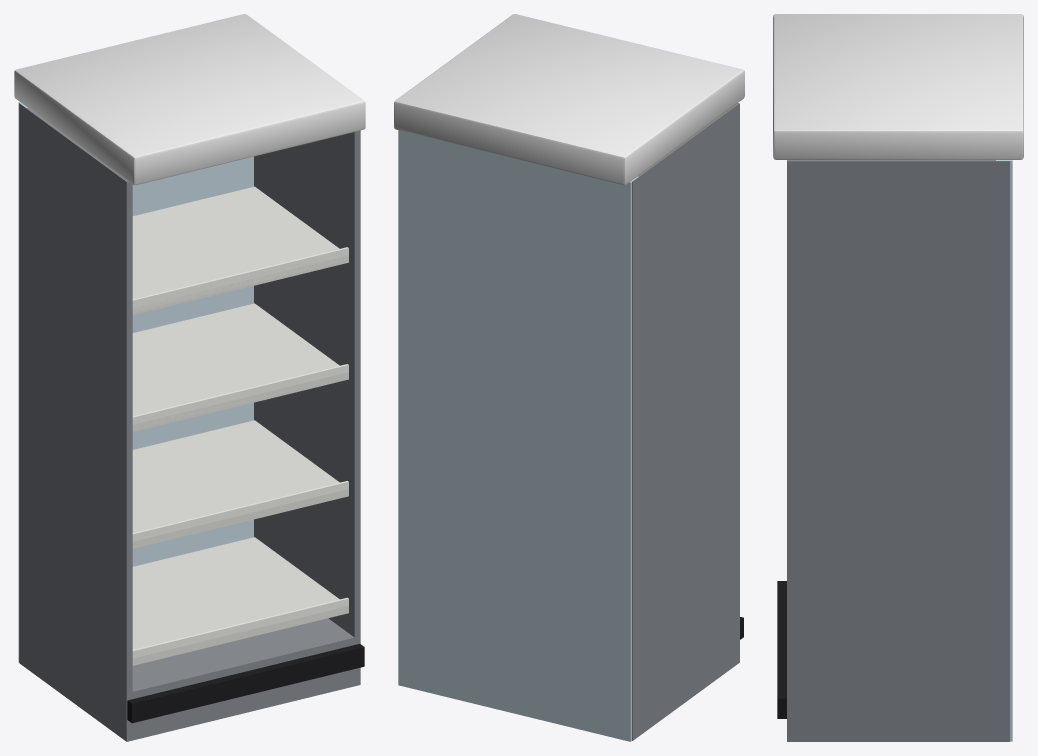
Rendered from sh_chiller.glb.
The picture shows the model from 3 angles, left to right: view 1: azimuth 30°, elevation 25°; view 2: azimuth 150°, elevation 25°; view 3: azimuth 270°, elevation 25°; orthographic projection. The views are drawn at different scales.
Visible parts, largest first — view 1: base, deck, canopy, back, dlip, bump; view 2: back, base, canopy; view 3: base, canopy, back, bump.
Part boxes in pixels (box(x1,y1,x2,y2)): base: box(19, 103, 360, 741); deck: box(132, 186, 348, 665); canopy: box(14, 14, 365, 185); back: box(18, 102, 253, 662); dlip: box(132, 247, 348, 658); bump: box(127, 644, 364, 723); back: box(398, 130, 638, 741); base: box(632, 103, 739, 740); canopy: box(394, 14, 744, 184); base: box(787, 160, 1009, 741); canopy: box(773, 14, 1023, 159); back: box(996, 160, 1012, 741); bump: box(777, 581, 786, 718).
Size of the model in its own units: 1 by 2.42 by 0.9.
